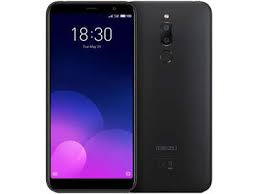meizu: (44, 1, 137, 194), (135, 1, 212, 192)
